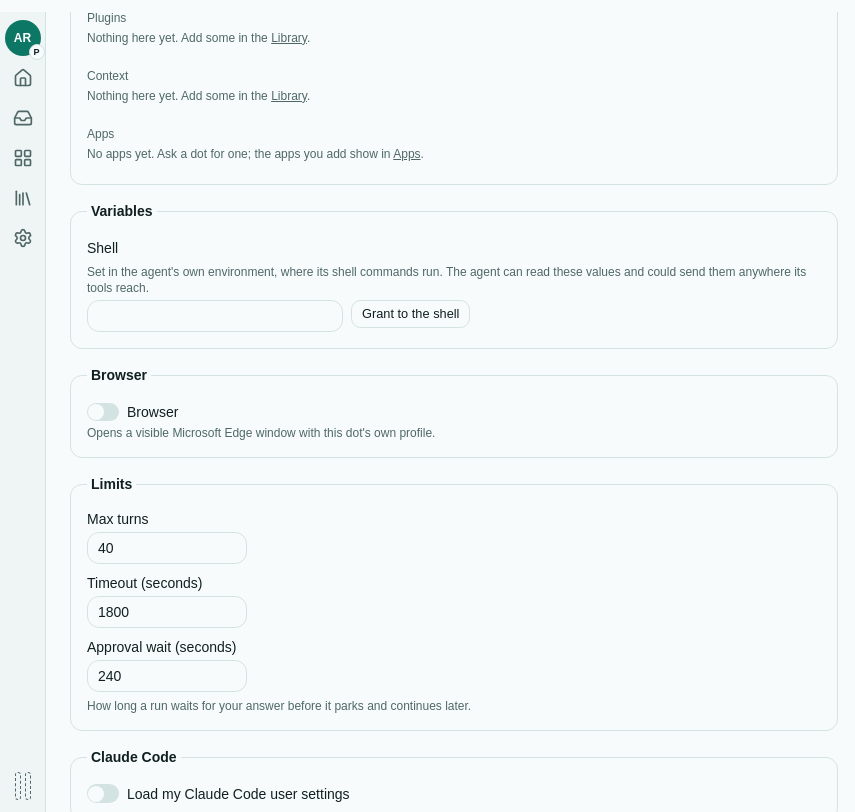
Test: the dot editor's browser › turns the browser on for a new dot, whose browser opens once it is saved
(page scrolled)
Expected: the heading "Sites" is not shown
Click the 1st switch named "Browser" at (103, 412), box x1=87 y1=403 x2=119 y2=421
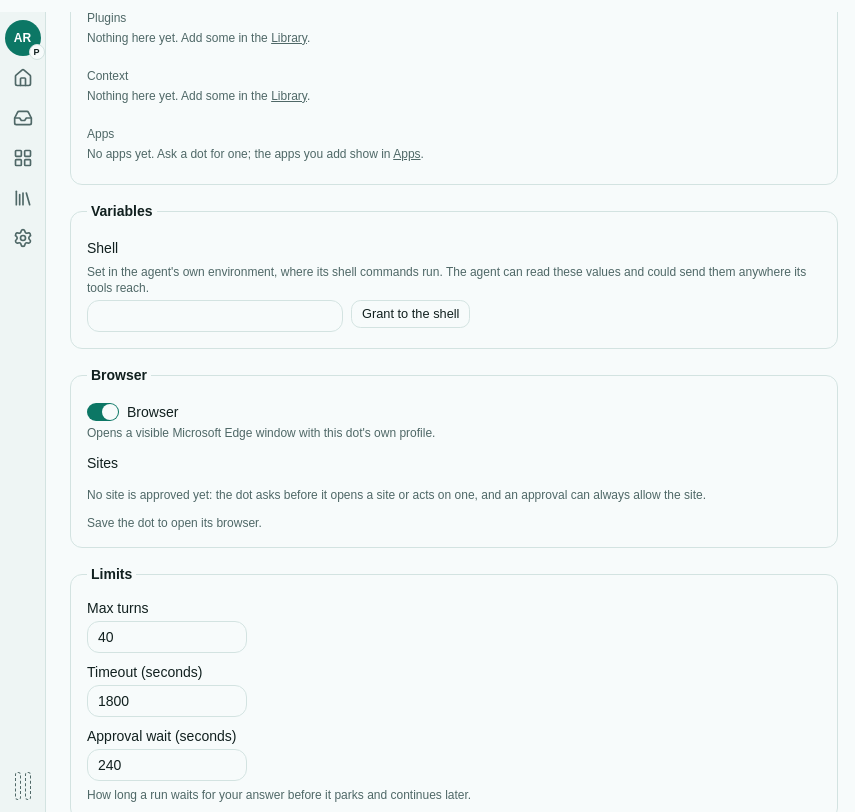
Result: the switch named "Browser" is checked at x1=87 y1=403 x2=119 y2=421
Result: the heading "Sites" is shown at x1=87 y1=455 x2=118 y2=471
Result: the text "No site is approved yet" is shown at x1=87 y1=488 x2=706 y2=502
